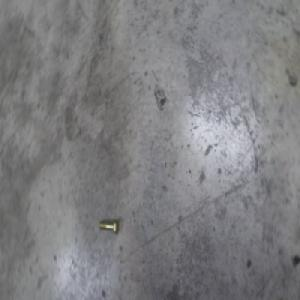Bolt: (100, 209, 121, 230)
